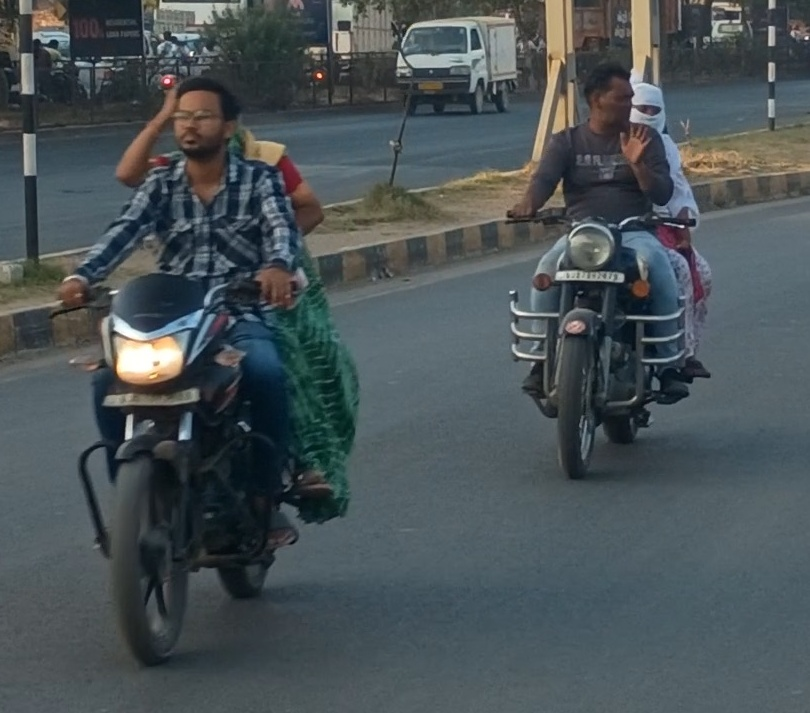BikeWithRider: (39, 72, 366, 675), (496, 55, 723, 488)
NoHelmet: (162, 74, 245, 163), (572, 55, 647, 135), (615, 78, 674, 145)
